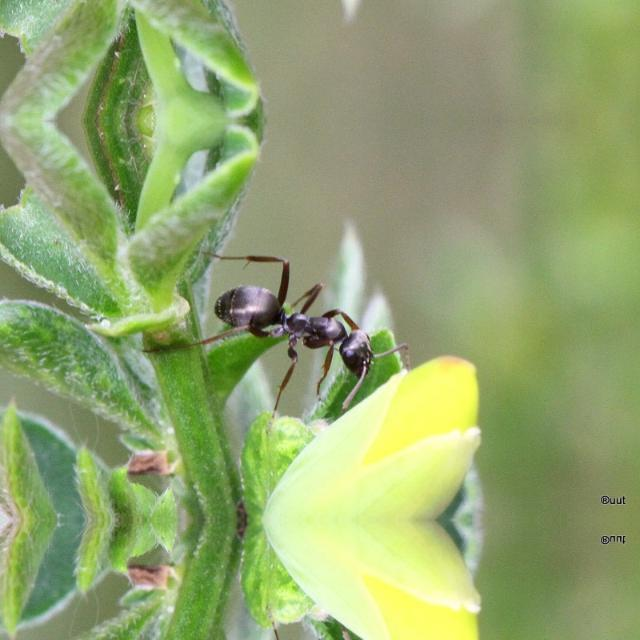Formica: (209, 266, 389, 386)
